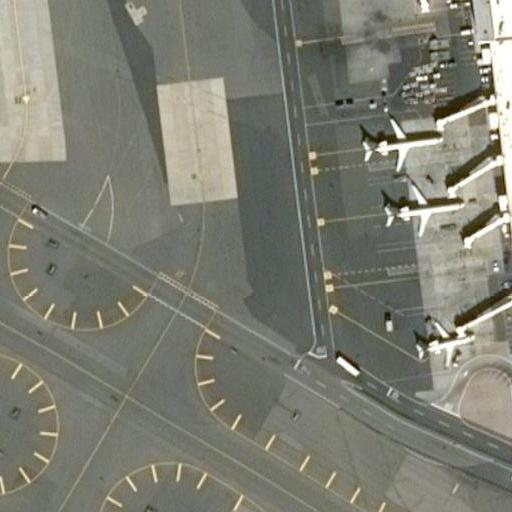Aircraft: (375, 175, 460, 232), (402, 308, 471, 366), (362, 101, 436, 155)
